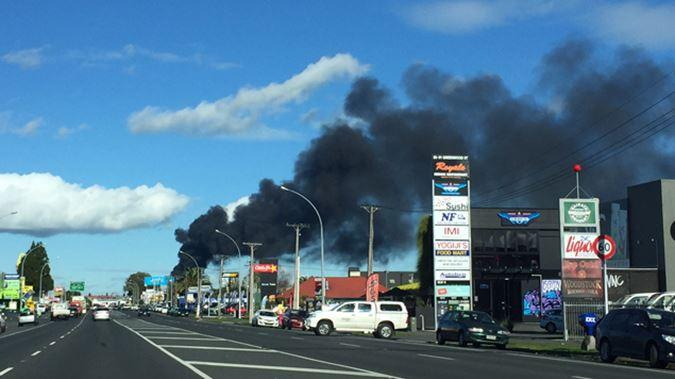smoke: (488, 114, 598, 175), (309, 147, 430, 195), (237, 207, 310, 247)
